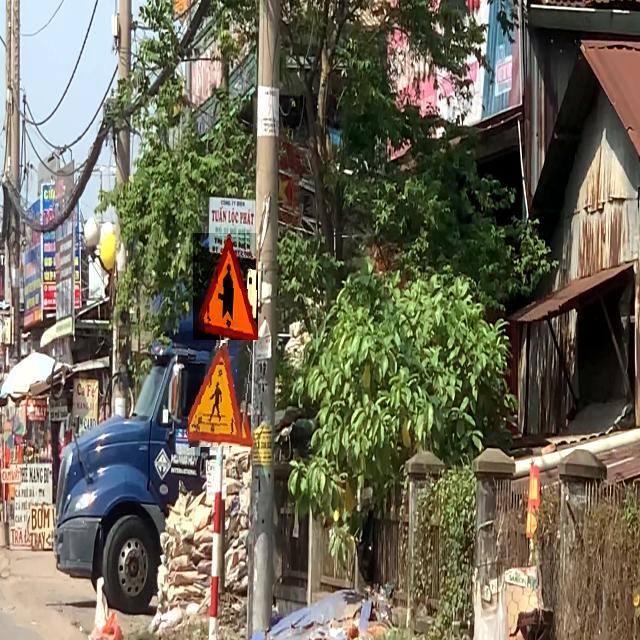W-207c: (193, 233, 258, 340)
W-224: (188, 344, 253, 450)
